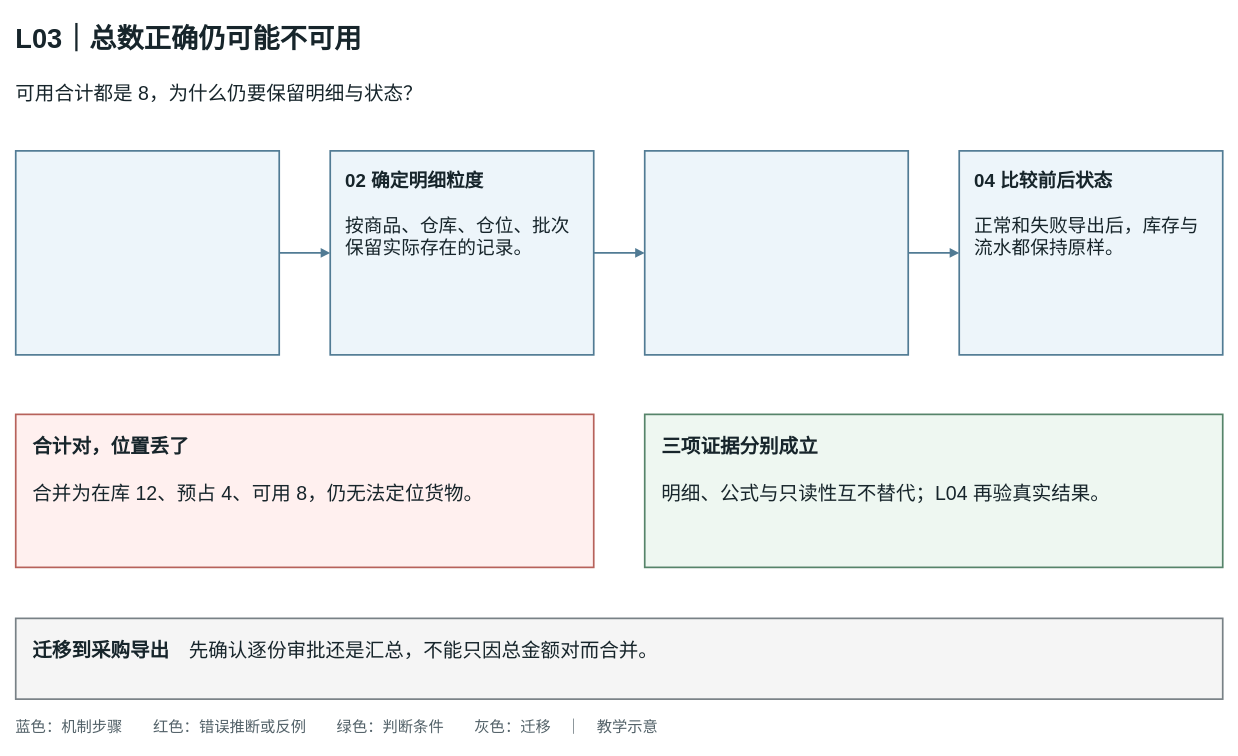
Image size: 1238x756. Some labels were removed from this diagram. Each missing label, with the box of its shape:
01 保留原输入 东仓在库 8、预占 3；西 仓在库 4、预占 1。: (14, 150, 280, 355)
03 逐行核对公式 东仓可用 5，西仓可用 3； 不能只比合计 8。: (643, 150, 909, 355)
